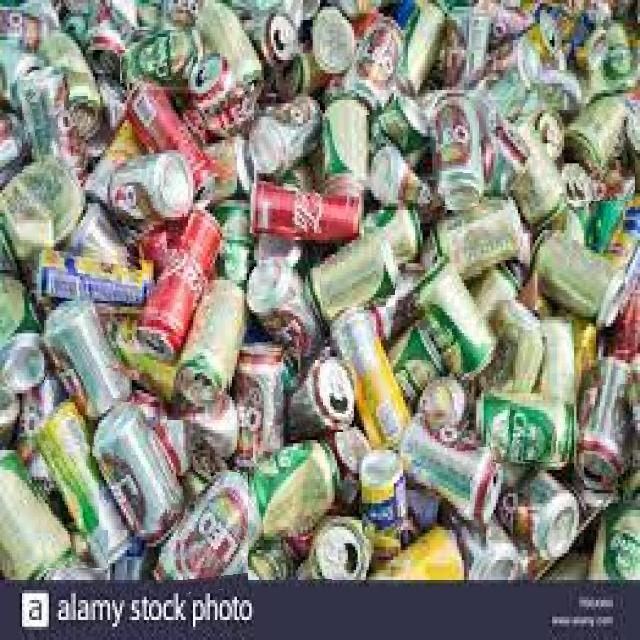Cans: (32, 423, 108, 568), (172, 472, 248, 594), (100, 402, 168, 530), (45, 317, 126, 416), (408, 420, 490, 512), (22, 72, 90, 172), (246, 268, 321, 356), (420, 266, 482, 372), (250, 176, 359, 233), (564, 114, 635, 201), (494, 385, 574, 462), (584, 371, 632, 490), (117, 154, 185, 229), (432, 101, 479, 206), (49, 248, 142, 301), (312, 248, 395, 307), (242, 349, 282, 461), (262, 469, 341, 524), (194, 287, 232, 400), (120, 30, 197, 84), (148, 231, 184, 337), (362, 448, 403, 539), (294, 370, 354, 432), (198, 65, 253, 130), (359, 25, 396, 115), (306, 536, 366, 582)
